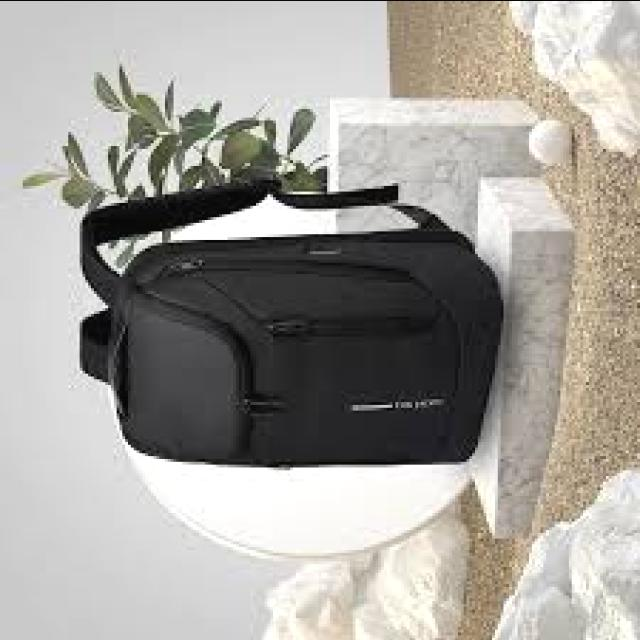backpack: (78, 178, 504, 471)
